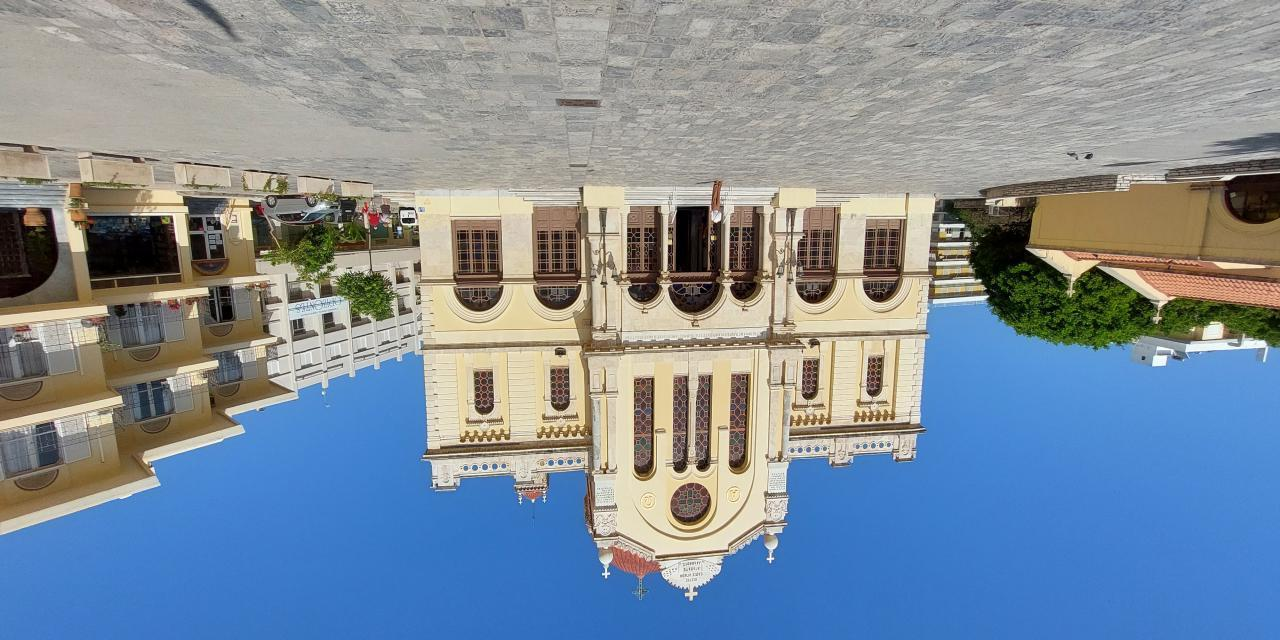Agios Minas: (411, 186, 950, 616)
